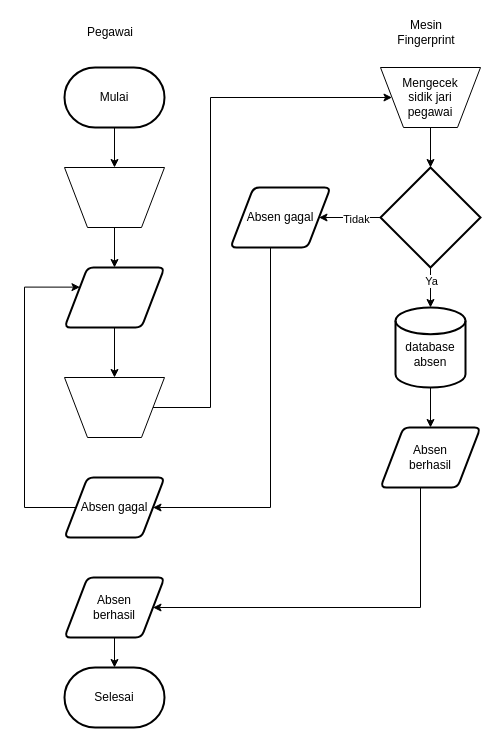
The diagram is 499 pixels wide and 745 high, and some of its shapes have lost their labels. The centre of each missing label's shape, as x and y in pixels:
"JIka data ada" belongs at [430,217].
"Melakukan absensi sidik jari" belongs at [114,407].
"Pergi ke kantor dinas" belongs at [114,197].
"Sidik jari pegawai" belongs at [114,297].
